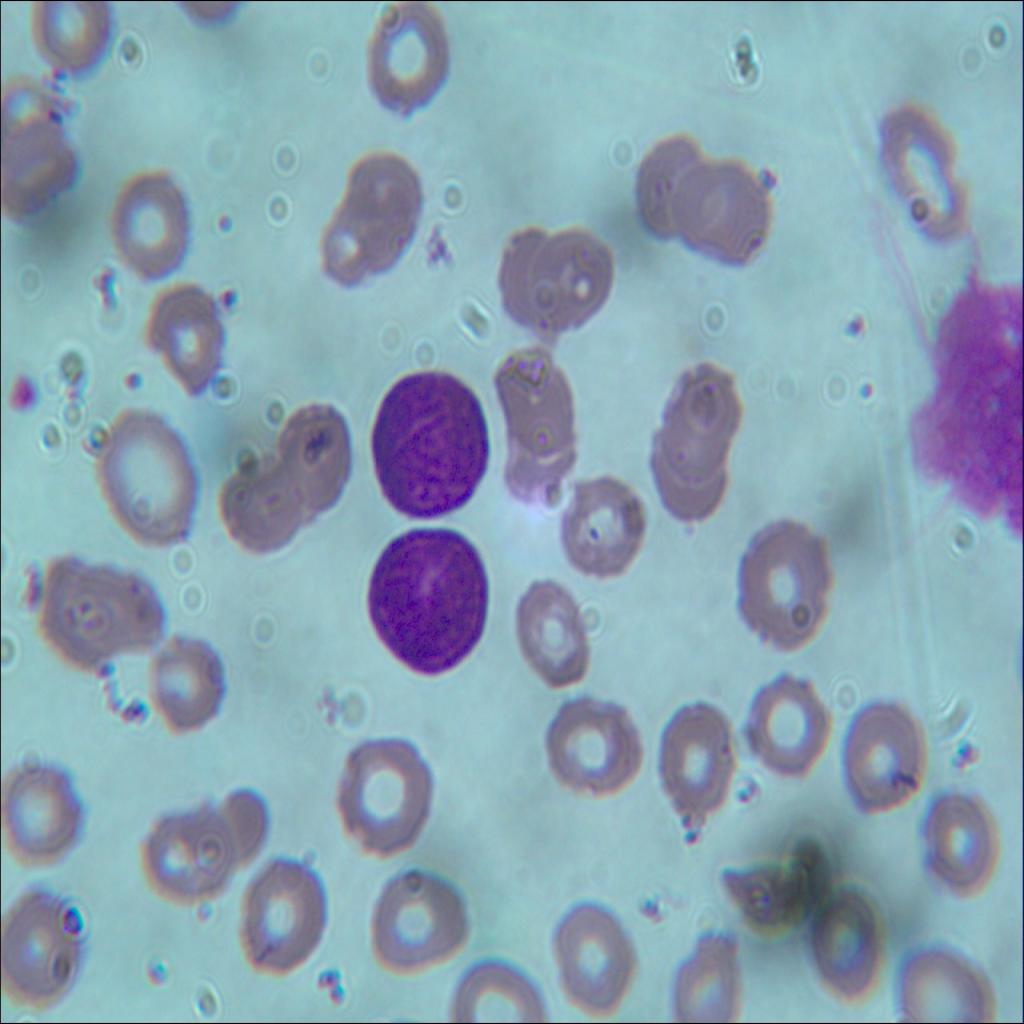Eritrosit: (728, 512, 831, 660), (224, 851, 328, 984), (335, 728, 439, 858), (98, 409, 198, 544), (874, 111, 974, 244), (368, 865, 476, 974), (208, 445, 302, 567), (544, 891, 638, 1010), (544, 690, 646, 799), (913, 778, 1001, 904), (738, 669, 834, 784), (548, 468, 643, 584), (675, 159, 763, 282), (136, 622, 228, 738), (515, 568, 595, 701), (0, 882, 82, 1011), (834, 692, 922, 812), (646, 691, 729, 818), (0, 82, 79, 215), (274, 402, 355, 528), (0, 761, 96, 867), (149, 277, 230, 402), (644, 415, 729, 534), (39, 554, 126, 668), (371, 8, 458, 118), (660, 917, 750, 1023), (106, 172, 196, 277), (139, 810, 233, 904), (499, 414, 586, 514), (811, 879, 881, 1000), (622, 120, 695, 234), (660, 367, 734, 478), (338, 154, 426, 244), (903, 938, 995, 1023), (492, 352, 570, 451), (191, 784, 269, 881), (86, 564, 166, 657), (324, 184, 386, 296), (34, 0, 116, 65)
Limfoblast: (361, 520, 490, 678), (362, 368, 492, 524)
Platelet: (110, 352, 150, 415), (0, 365, 41, 424), (855, 367, 883, 417), (751, 156, 781, 202), (209, 282, 239, 316), (840, 304, 866, 341), (208, 202, 238, 228)
